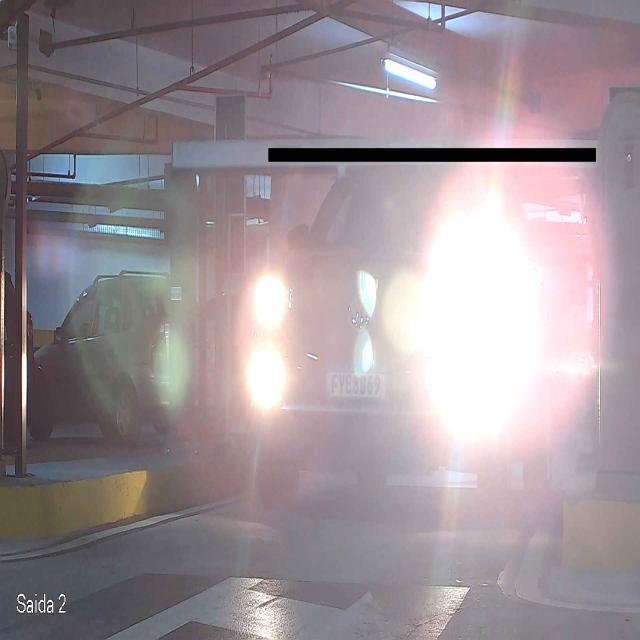mercosul_plate: (325, 369, 386, 399)
